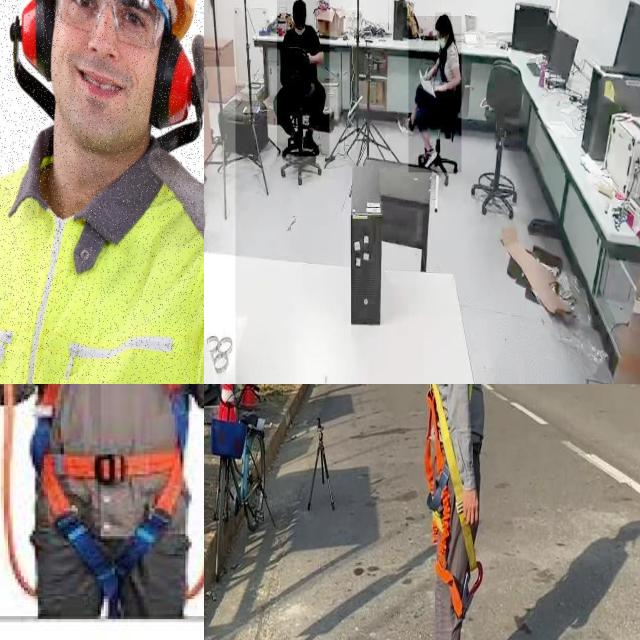Ear-protection: (7, 0, 203, 155)
Harness: (0, 384, 204, 595), (425, 384, 478, 618)
face_mask: (294, 15, 308, 38), (436, 31, 448, 52)
glasses: (47, 0, 171, 58), (301, 128, 321, 158), (417, 145, 438, 171), (396, 117, 416, 135)
hand_noglove: (432, 82, 446, 92)
head_nohelmet: (435, 12, 451, 30), (292, 0, 305, 11)
person: (408, 16, 462, 173), (277, 0, 330, 157)
vest: (0, 146, 204, 384)
